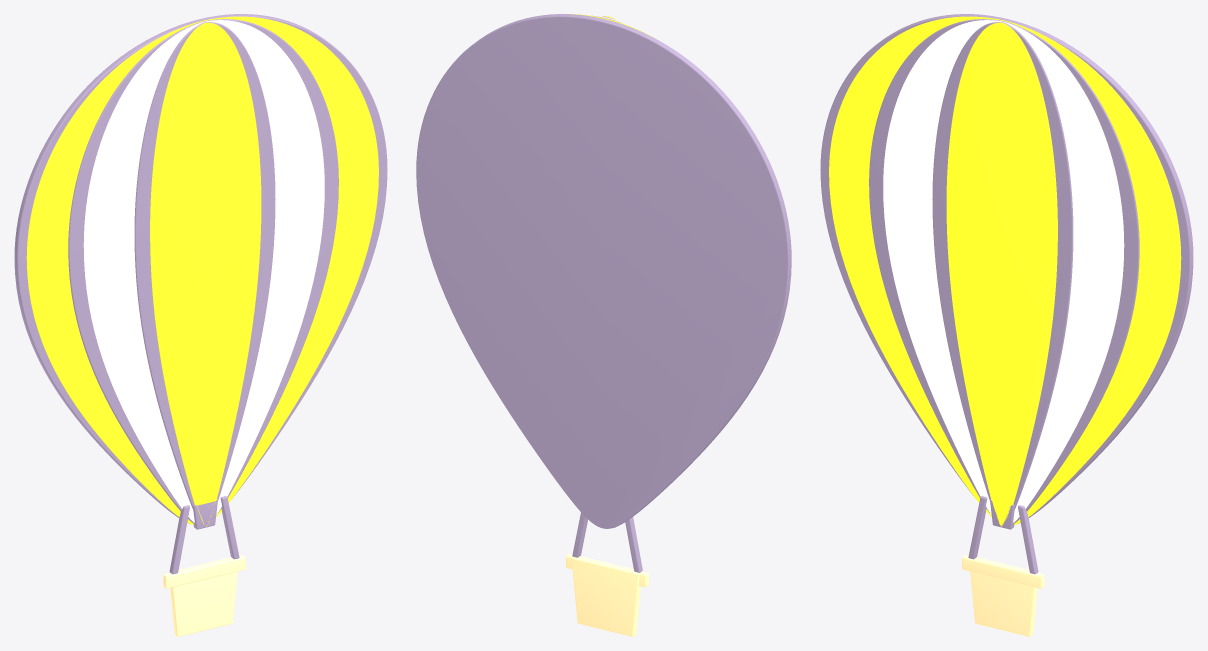
Rendered from airBalloon1.glb.
3 views of the same model, side by side, from view 1: azimuth 30°, elevation 25°; view 2: azimuth 150°, elevation 25°; view 3: azimuth 330°, elevation 25° (orthographic).
Parts seen in each view (by area): view 1: Balloon_06_RedInner.001, Balloon_04_PinkMid.001, Balloon_02_RedOuter.001, Balloon_03_Line1.001, Balloon_05_Line2.001, Balloon_01_Outline.001, Balloon_09_Basket.001, Balloon_10_Rim.001, Balloon_08_RopeL.001, Balloon_07_Burner.001, Balloon_08_RopeR.001; view 2: Balloon_01_Outline.001, Balloon_09_Basket.001; view 3: Balloon_06_RedInner.001, Balloon_04_PinkMid.001, Balloon_02_RedOuter.001, Balloon_03_Line1.001, Balloon_05_Line2.001, Balloon_01_Outline.001, Balloon_09_Basket.001, Balloon_10_Rim.001, Balloon_08_RopeR.001, Balloon_08_RopeL.001.
Boxes of the visible parts, x1,y1,x2,y2 form: Balloon_06_RedInner.001: (150, 22, 261, 526); Balloon_04_PinkMid.001: (83, 20, 324, 522); Balloon_02_RedOuter.001: (26, 16, 378, 524); Balloon_03_Line1.001: (68, 19, 338, 523); Balloon_05_Line2.001: (134, 22, 275, 509); Balloon_01_Outline.001: (14, 14, 387, 523); Balloon_09_Basket.001: (169, 557, 237, 636); Balloon_10_Rim.001: (163, 555, 245, 588); Balloon_08_RopeL.001: (169, 505, 189, 574); Balloon_07_Burner.001: (193, 499, 217, 529); Balloon_08_RopeR.001: (220, 496, 239, 559); Balloon_01_Outline.001: (416, 14, 791, 528); Balloon_09_Basket.001: (571, 557, 640, 636); Balloon_06_RedInner.001: (946, 22, 1057, 526); Balloon_04_PinkMid.001: (883, 20, 1124, 522); Balloon_02_RedOuter.001: (829, 16, 1181, 524); Balloon_03_Line1.001: (869, 19, 1139, 523); Balloon_05_Line2.001: (932, 22, 1073, 509); Balloon_01_Outline.001: (820, 14, 1193, 523); Balloon_09_Basket.001: (970, 557, 1038, 636); Balloon_10_Rim.001: (962, 555, 1044, 588); Balloon_08_RopeR.001: (1018, 505, 1038, 574); Balloon_08_RopeL.001: (968, 496, 987, 559).
Bounding box in the file's own units: 6 × 9.4 × 0.2.
